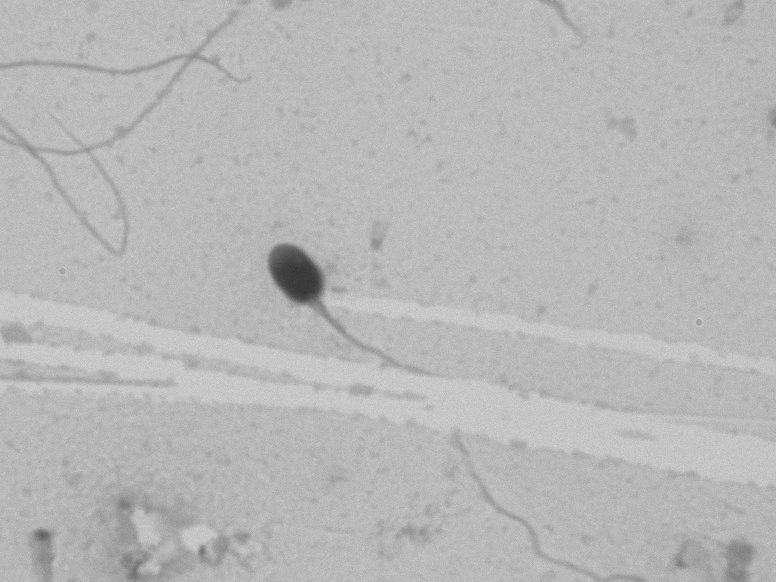Abnormal: (220, 213, 475, 401)
